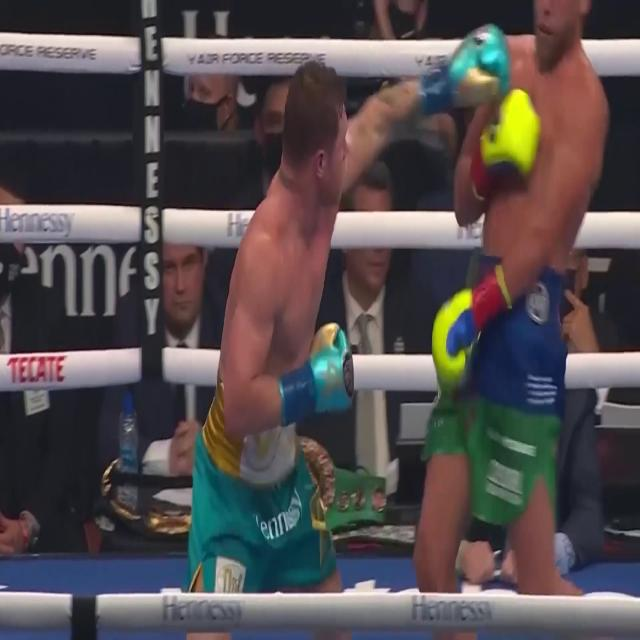boxer_2: (216, 60, 349, 406)
gloves_1: (431, 265, 512, 385), (471, 89, 541, 197)
gloves_2: (277, 324, 354, 428), (422, 24, 511, 113)
